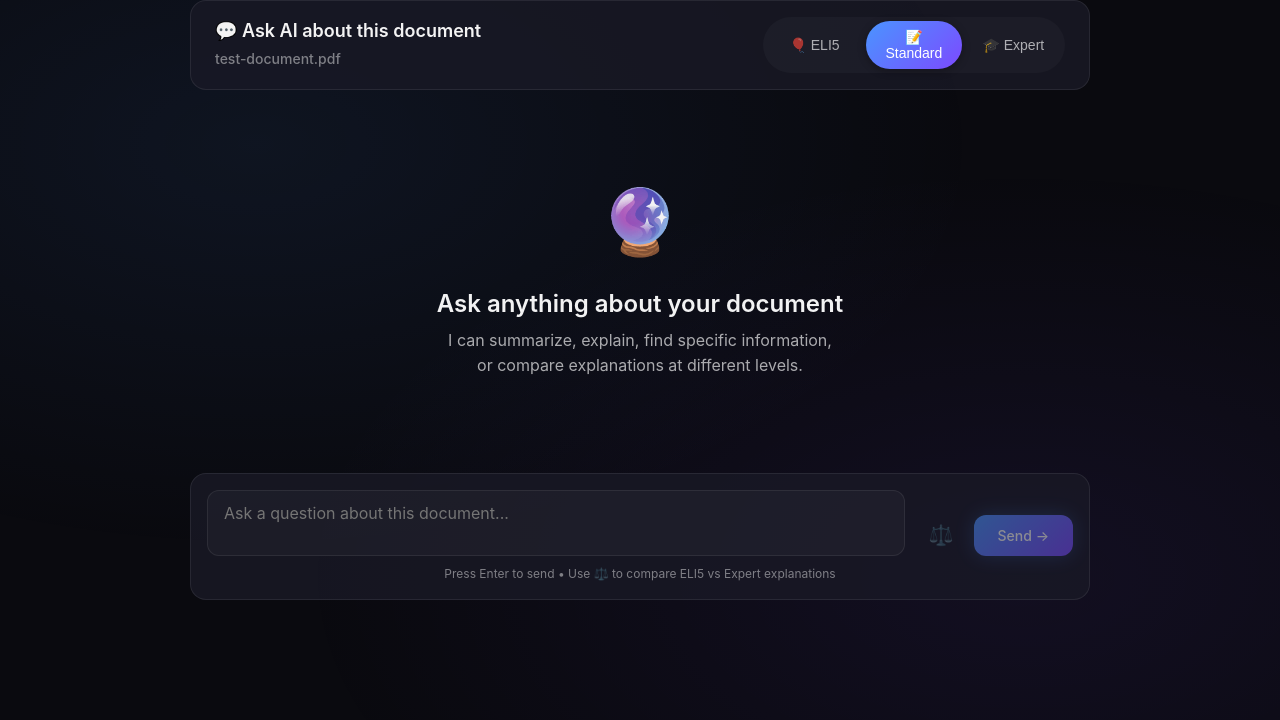
Test case: ChatInterface › sends message and displays user message
Type "Test question" into the text box with placeholder "Ask a question about this document..." at point(556, 523), box [207,490,905,556]
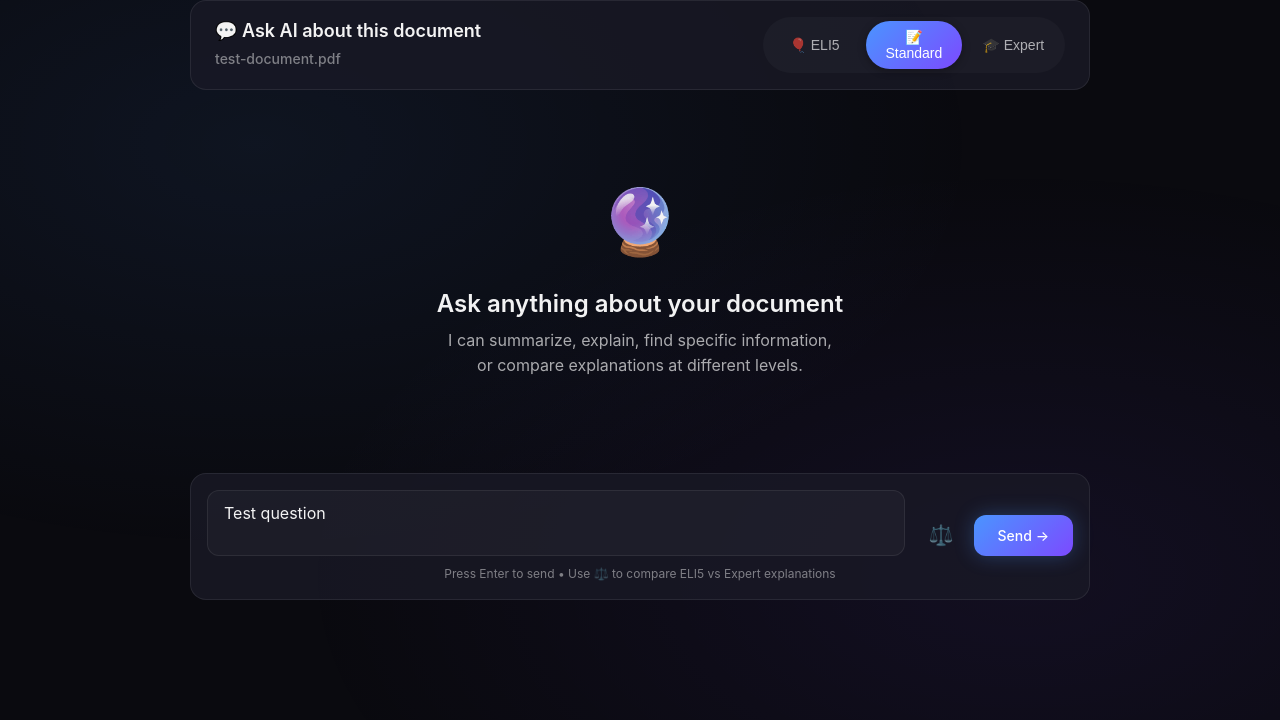
Click the button "Send →" at point(1023, 535), box [974,515,1073,556]
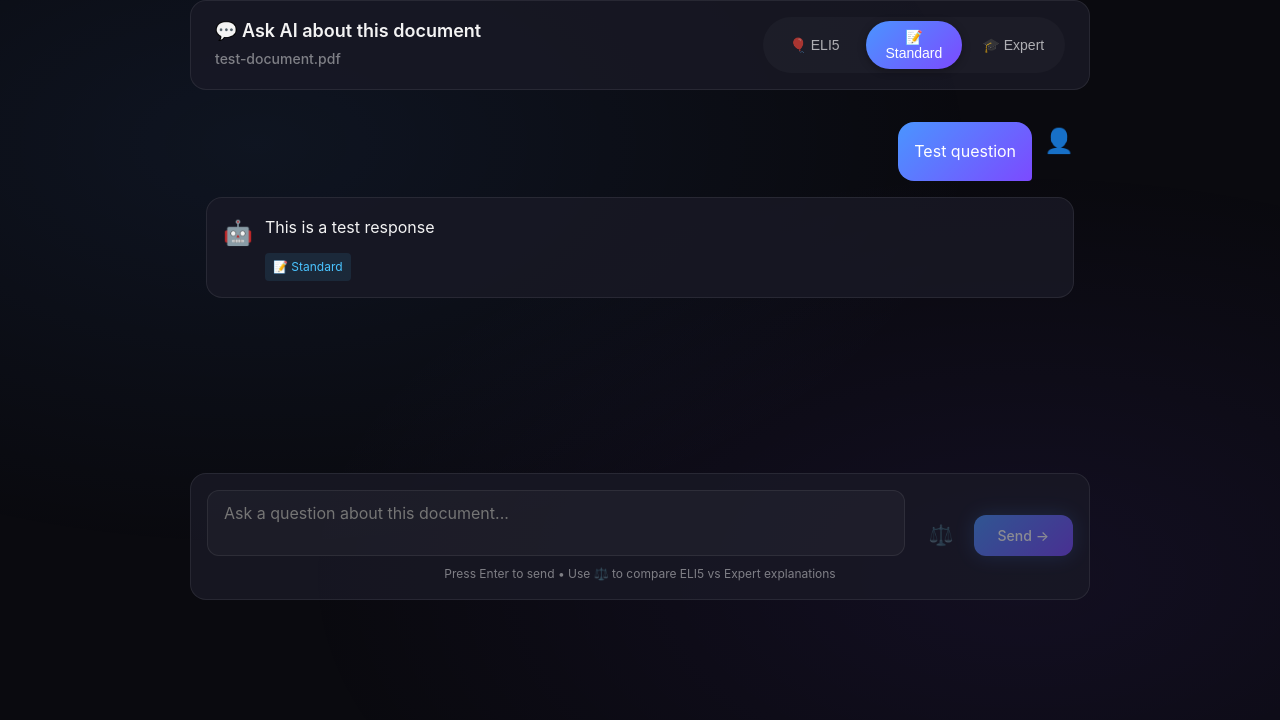
Expected: the text "Test question" is shown, [898,122,1032,181]
